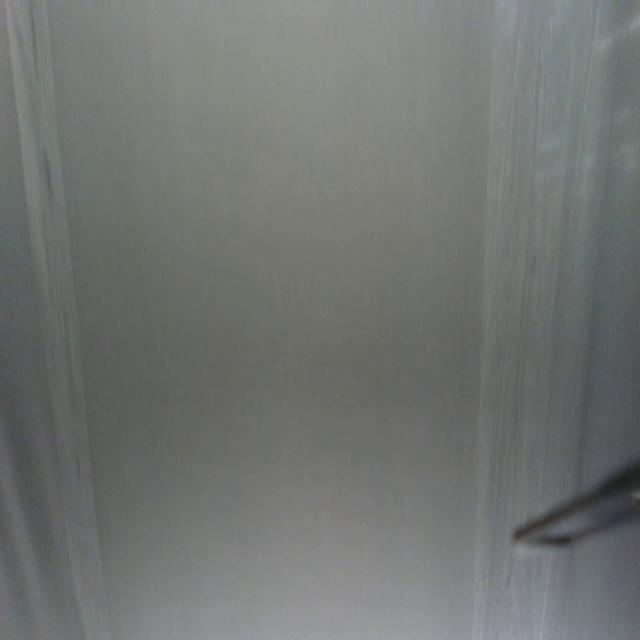crease: (6, 1, 114, 639), (476, 0, 596, 506)
